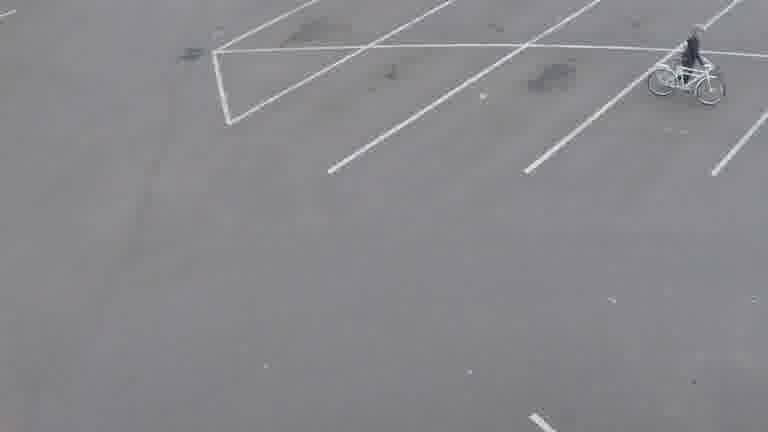bike: (645, 22, 732, 109)
